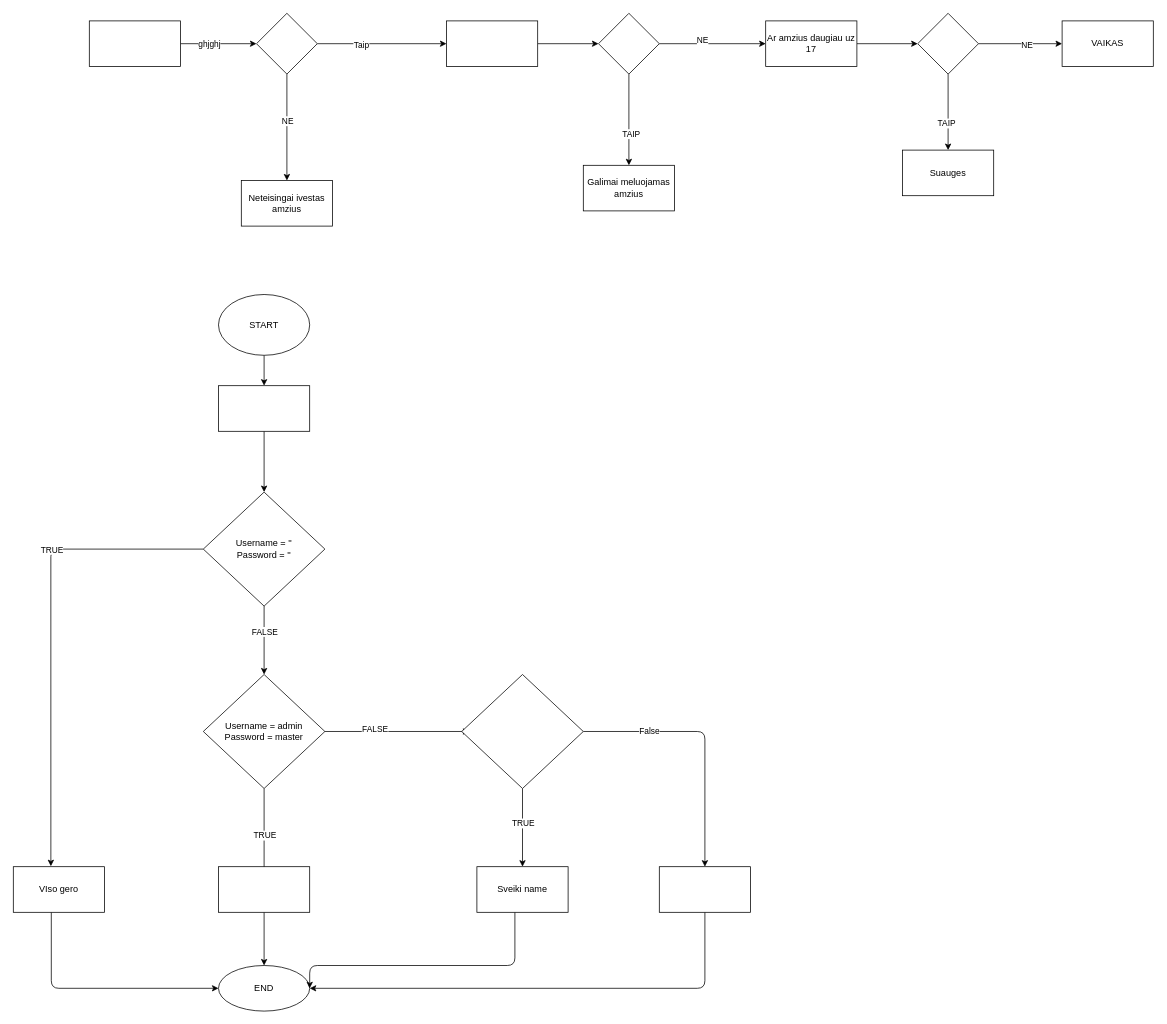
This 1167x1024 diagram has some shape labels left out. The centre of each missing label's shape, as x and y in pixels:
"Ar amzius daugiau uz 200" goes at point 492,43.
"Ar amzius dauiau uz 0" goes at point 134,43.
"Neteisingas Slaptazodis" goes at point 704,889.
"Sveiki Admin" goes at point 264,889.
"Username = name Password = name11" goes at point 522,731.
"Username Password" goes at point 264,408.
